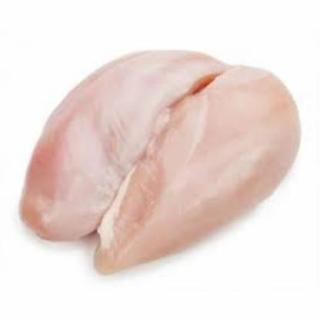Ayam: (22, 51, 303, 276)
